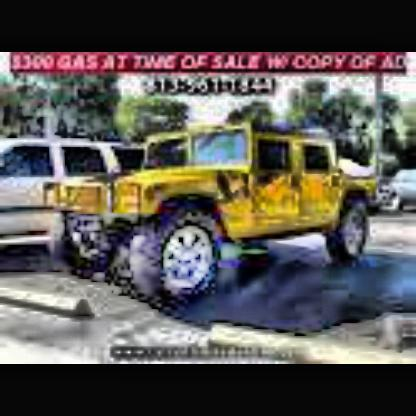AM General Hummer SUV 2000: (41, 106, 393, 290)
